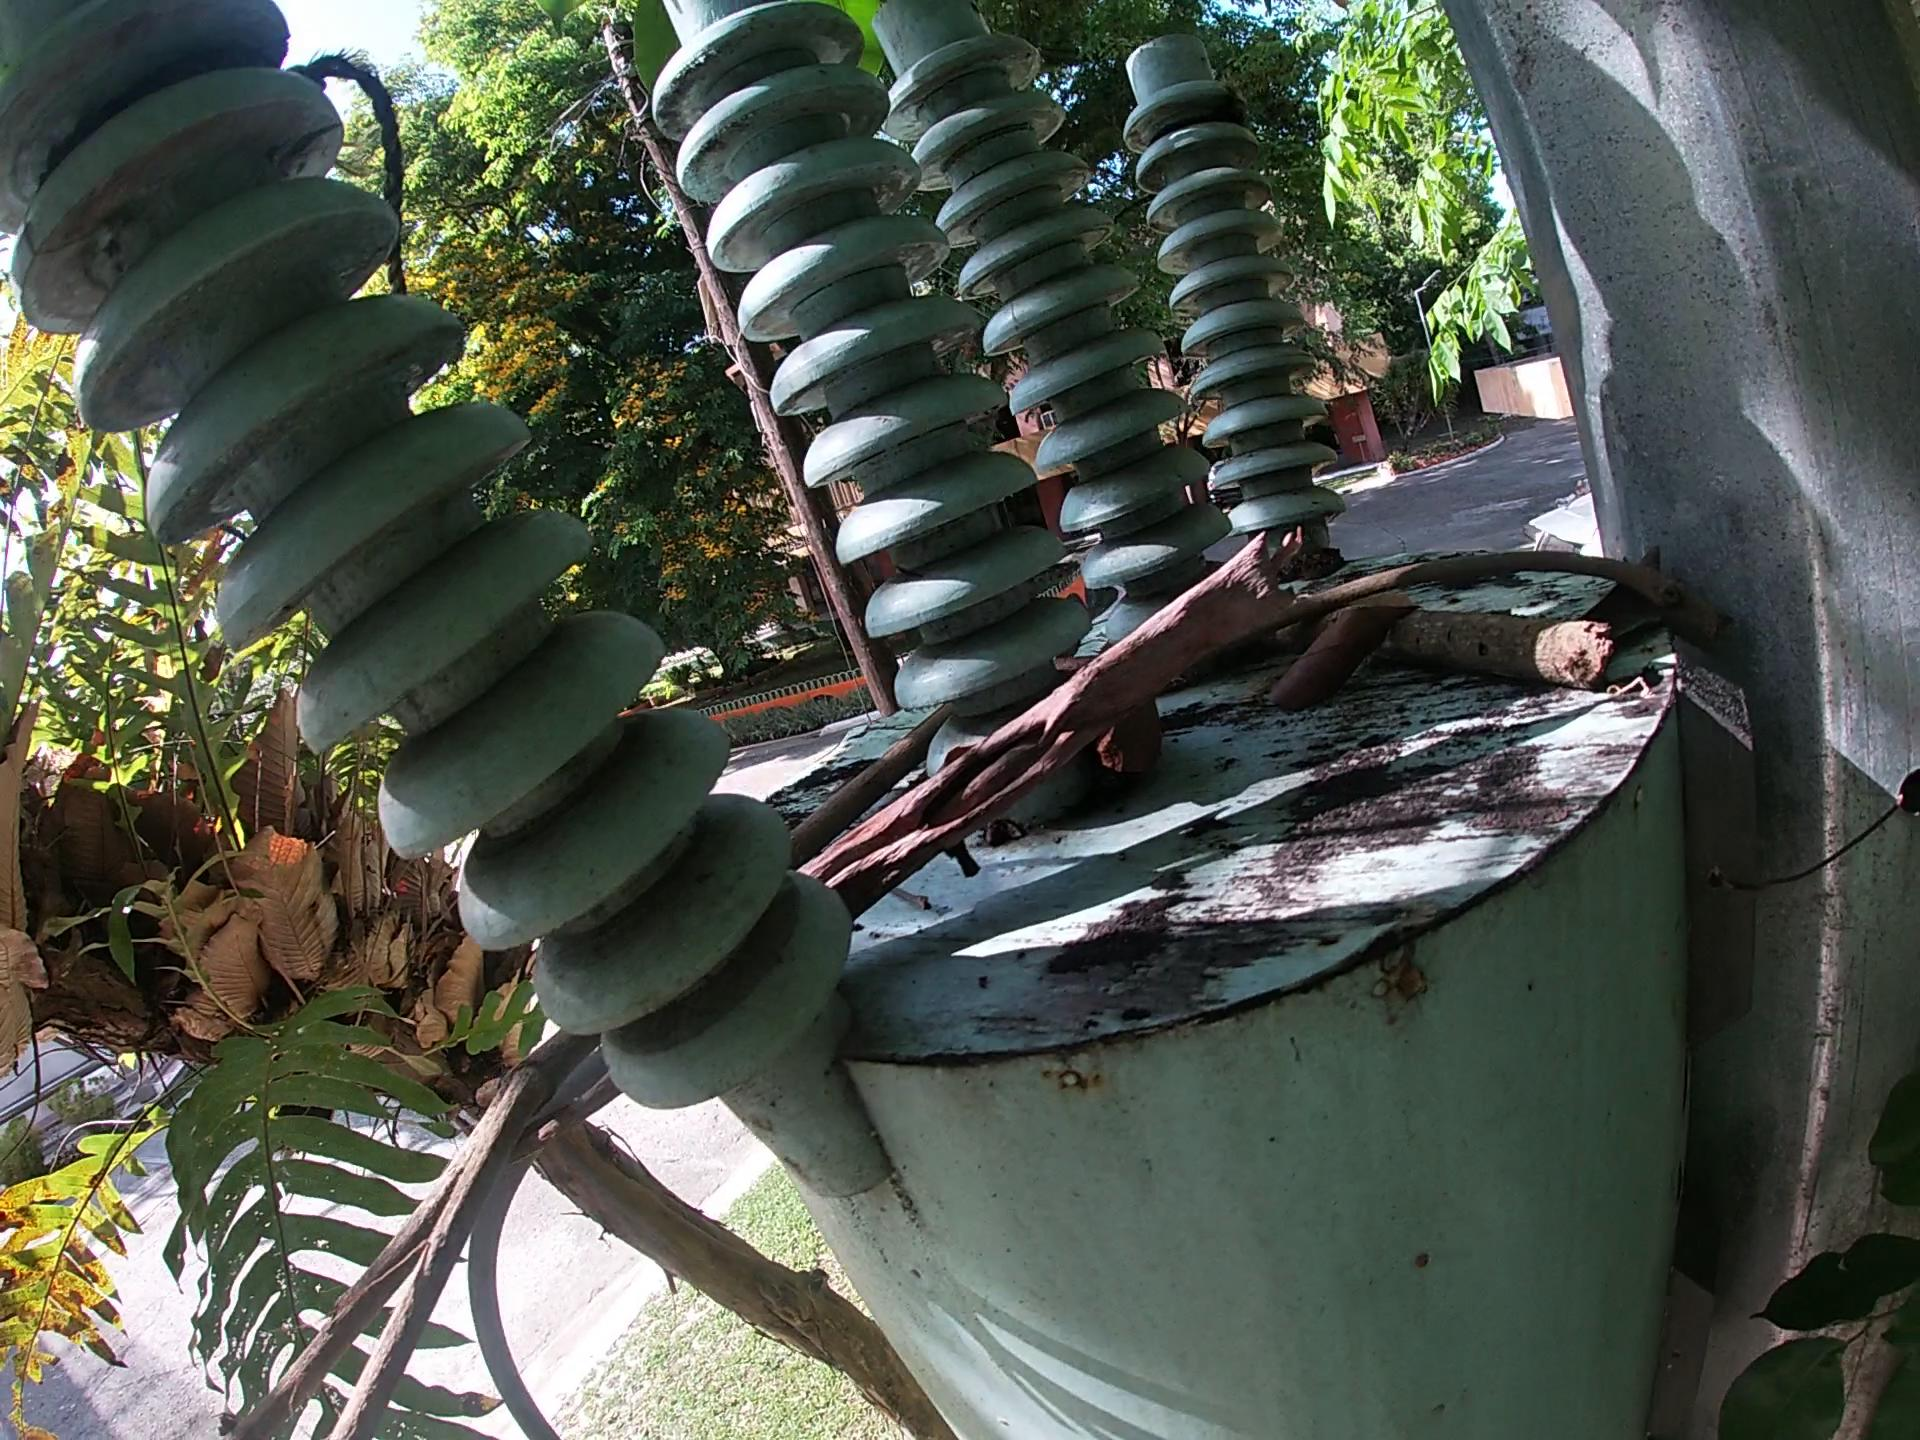leaf: (1258, 594, 1417, 718), (1592, 548, 1666, 641)
mahogany fruit: (1055, 655, 1169, 782)
tree branch: (792, 528, 1312, 929), (234, 1016, 599, 1440), (1264, 542, 1736, 650), (1265, 601, 1615, 694), (776, 703, 951, 877), (503, 1080, 621, 1165)
